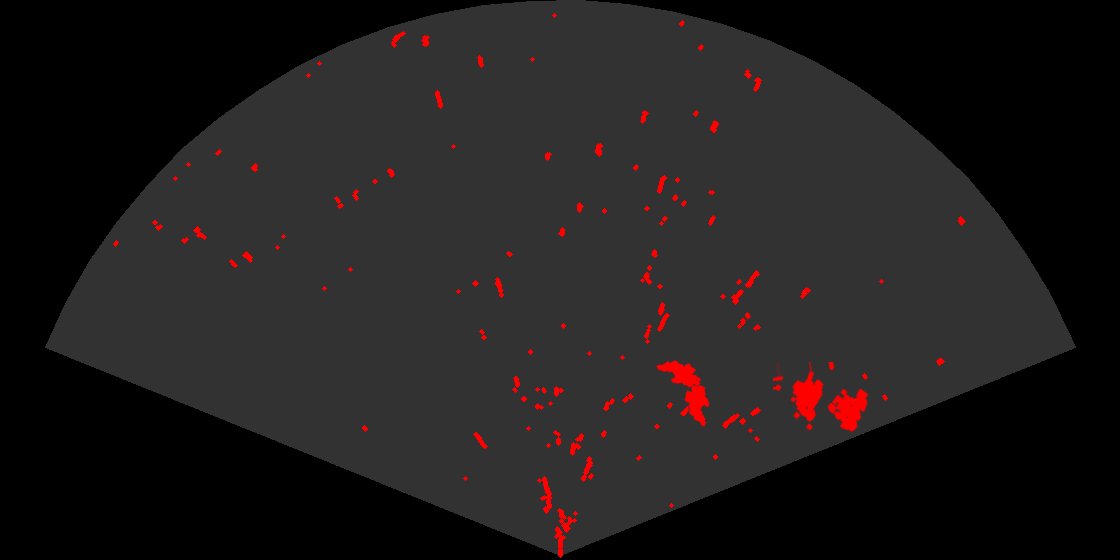AUV: (655, 359, 703, 389), (683, 378, 711, 428)
cage: (773, 362, 870, 434)
